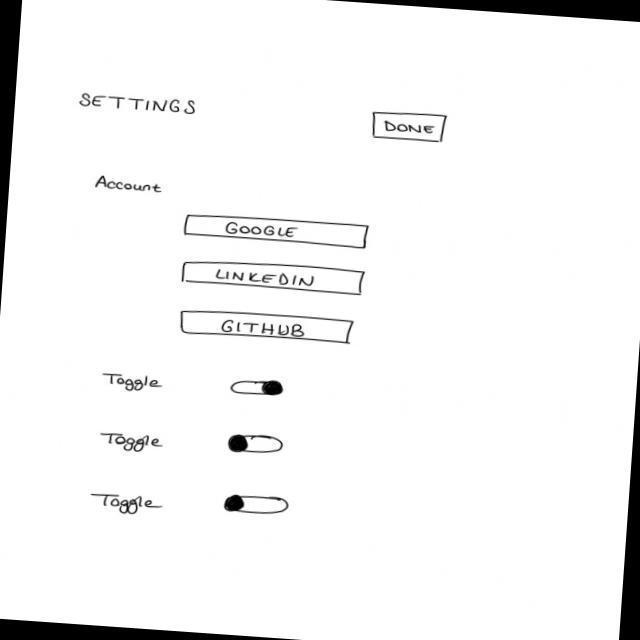button: (183, 211, 372, 250), (180, 257, 367, 296), (179, 307, 356, 347), (370, 110, 449, 145)
label: (79, 93, 200, 117), (88, 493, 165, 519), (98, 431, 166, 455), (93, 175, 165, 195), (101, 372, 165, 394)
toggle: (222, 493, 290, 517), (227, 433, 286, 458), (230, 377, 286, 400)
